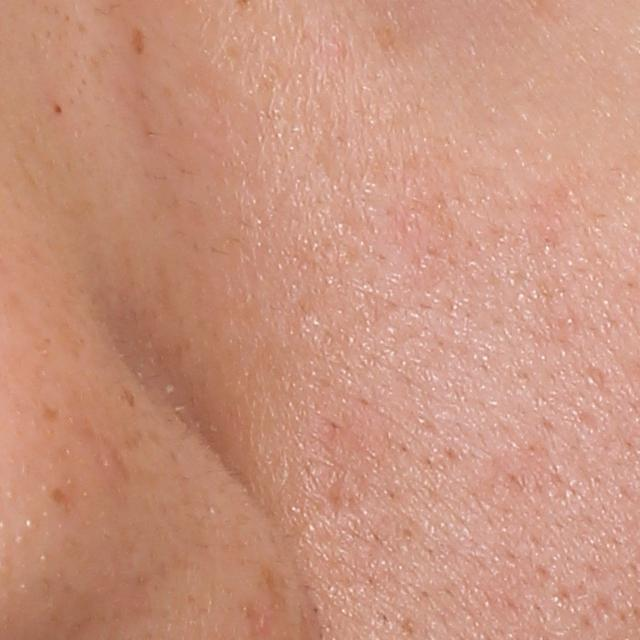melasma: (130, 22, 149, 58)
